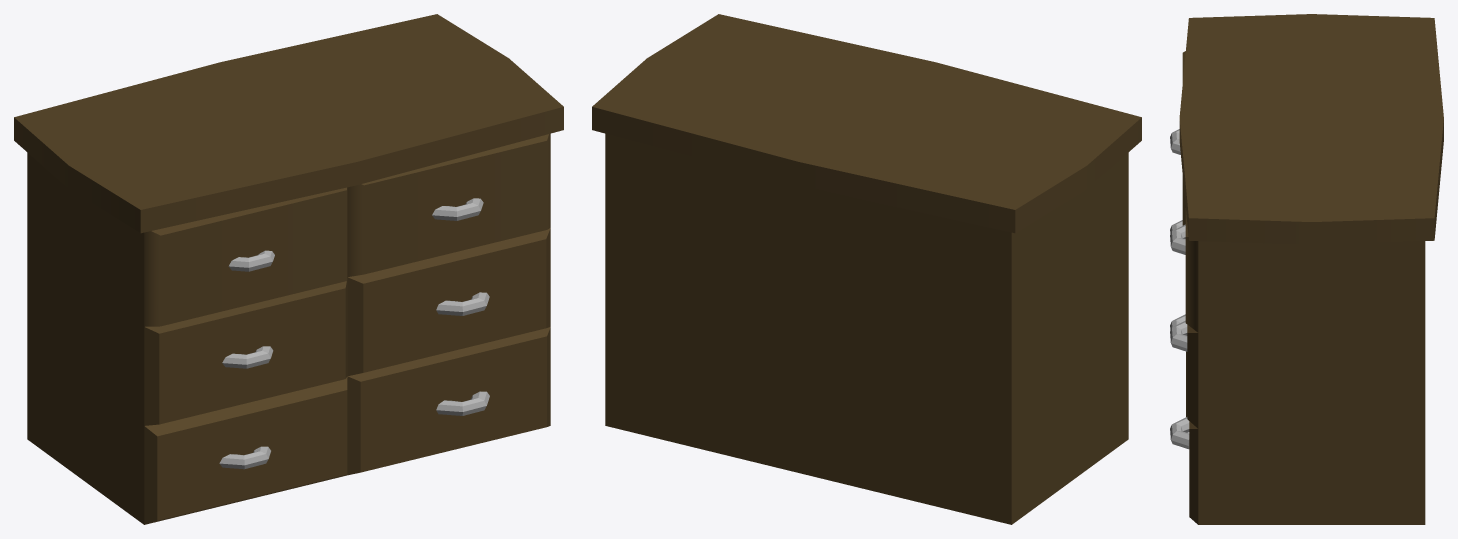
File: Dresser Export.fbx
3 renders of one model, left to right at view 1: azimuth 30°, elevation 25°; view 2: azimuth 150°, elevation 25°; view 3: azimuth 270°, elevation 25°, orthographic. The views are drawn at different scales.
Visible parts, largest first — view 1: Dresser; view 2: Dresser; view 3: Dresser.
Boxes of the visible parts, bbox=[...] form: Dresser: bbox=[14, 14, 563, 524]; Dresser: bbox=[592, 14, 1141, 524]; Dresser: bbox=[1170, 14, 1443, 524].
Size of the model in its own units: 1.64 by 1.14 by 0.9095.
